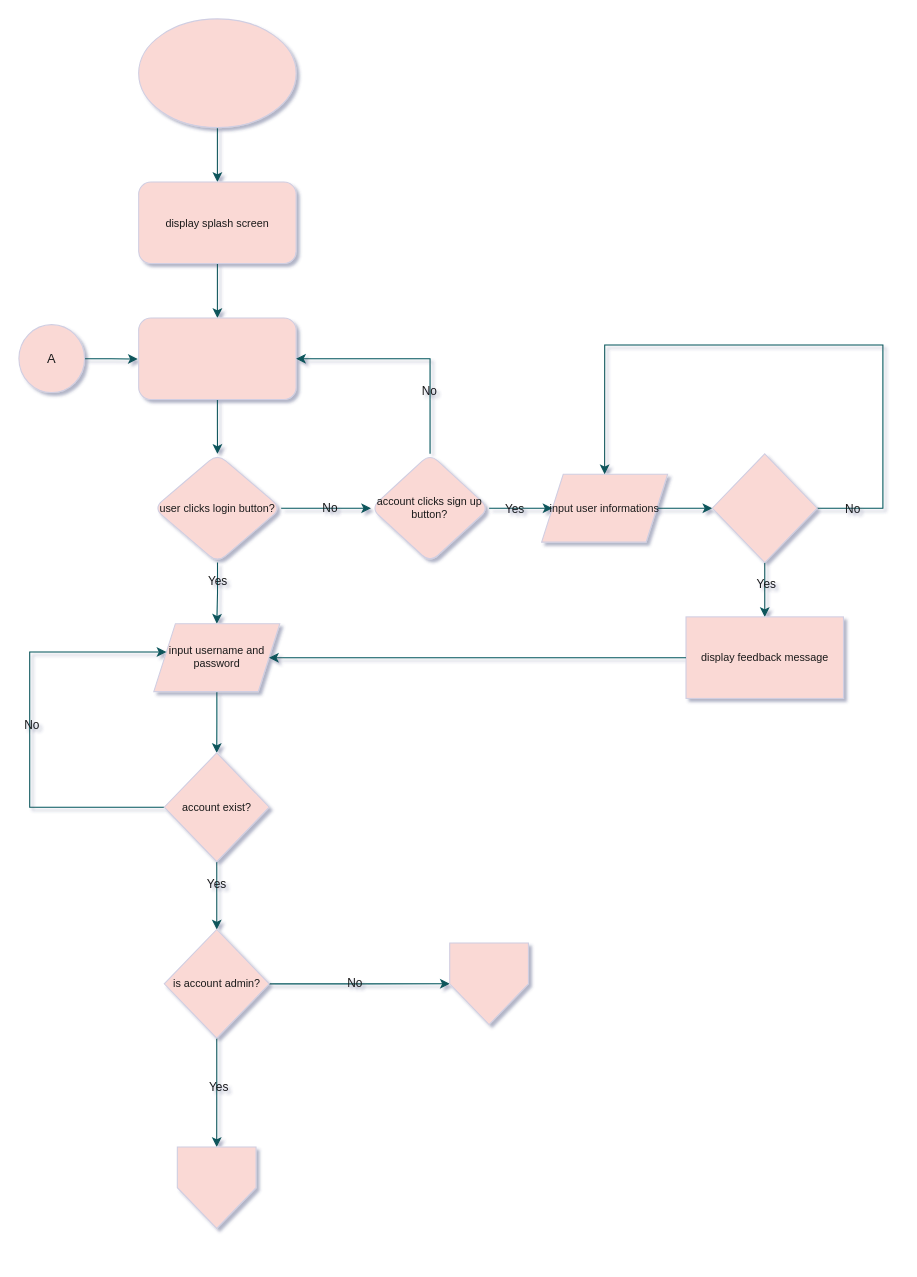
Image size: 917x1277. Some labels were removed from this diagram. Each missing label, with the centre of its shape:
admin: the point at 216,1187
display front page: the point at 217,358
Staff: the point at 488,983
start: the point at 217,73
valid inputs?: the point at 764,508
